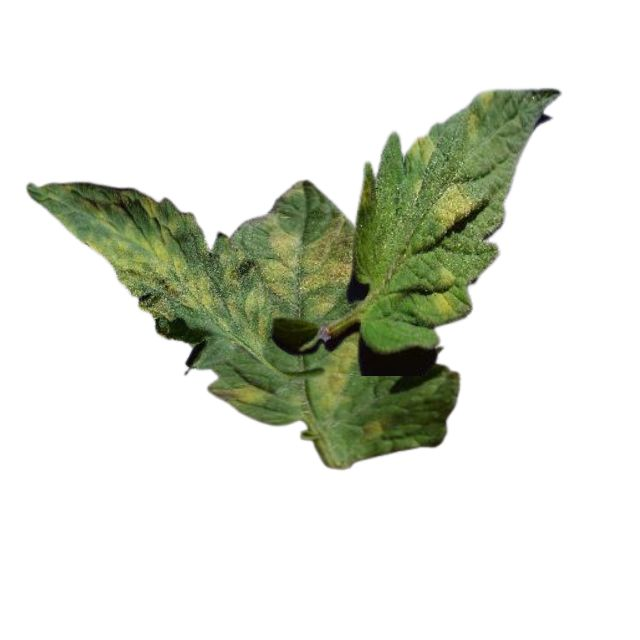Leaf_Mold: (27, 180, 253, 345), (255, 211, 355, 319), (310, 336, 363, 421), (426, 176, 479, 230), (211, 381, 268, 412), (467, 87, 497, 143), (432, 262, 461, 319), (405, 129, 434, 169), (361, 417, 382, 441)
